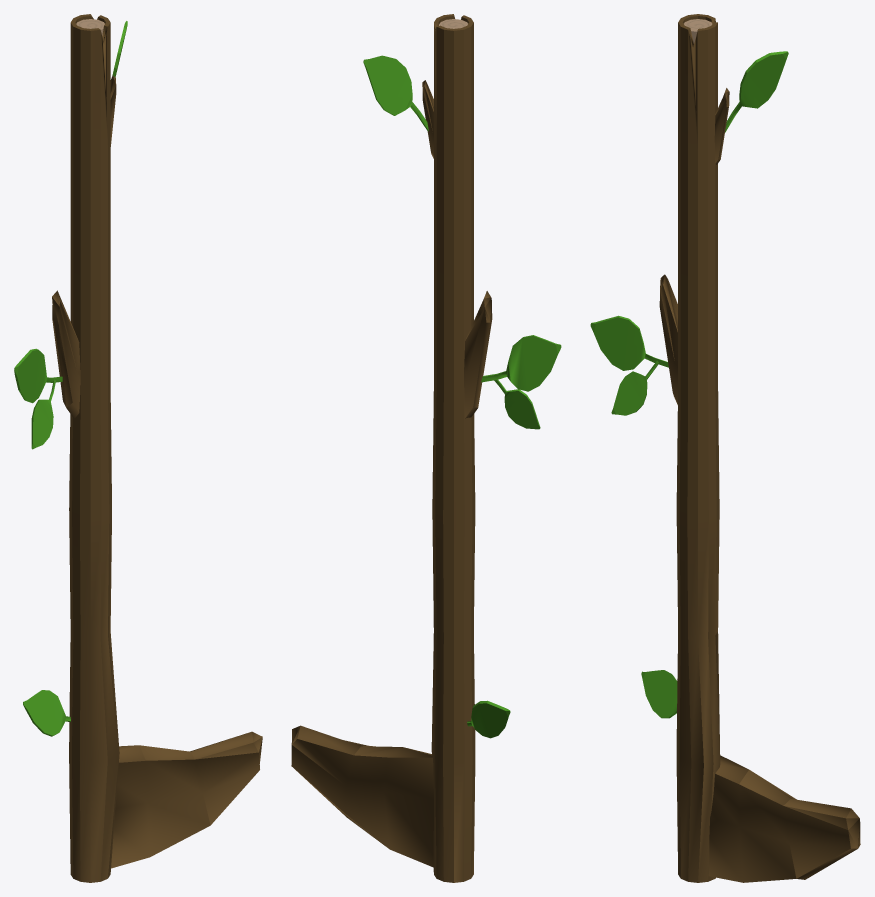
The model's file is golfClub6.glb.
3 views of the same model, side by side, from view 1: azimuth 30°, elevation 25°; view 2: azimuth 150°, elevation 25°; view 3: azimuth 330°, elevation 25° (orthographic).
Visible parts, largest first — view 1: PotiClub; view 2: PotiClub; view 3: PotiClub.
Part boxes in pixels (left/top/right/bottom): PotiClub: left=14, top=14, right=262, bottom=882; PotiClub: left=291, top=14, right=561, bottom=882; PotiClub: left=590, top=14, right=860, bottom=882.
Size of the model in its own units: 0.5058 by 1.59 by 0.1458.
Materials: 1 (1 with a texture image).
